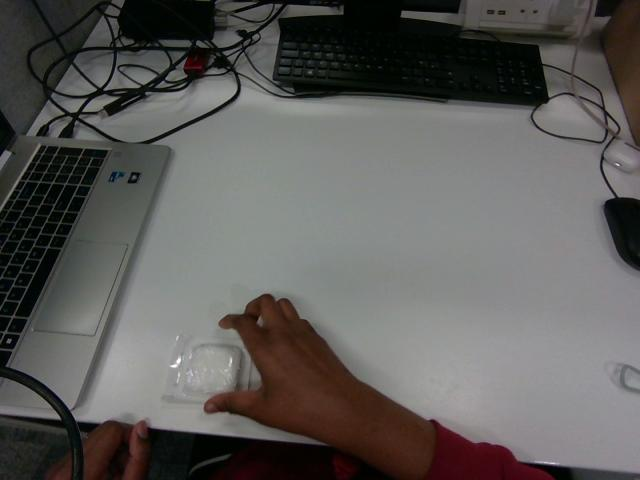gauze: (163, 335, 249, 402)
